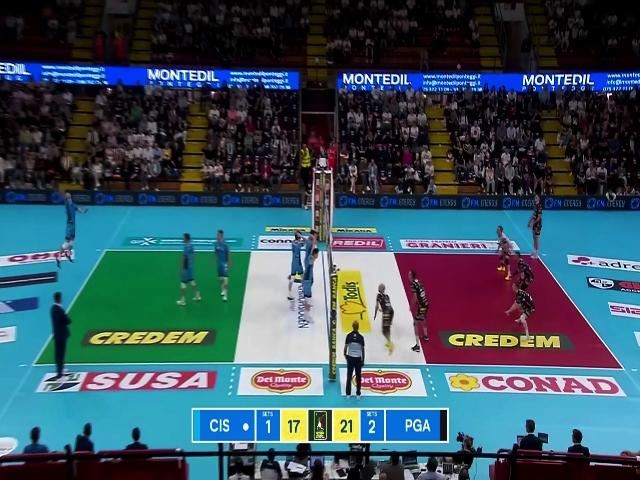volleyball court: (34, 251, 623, 368)
